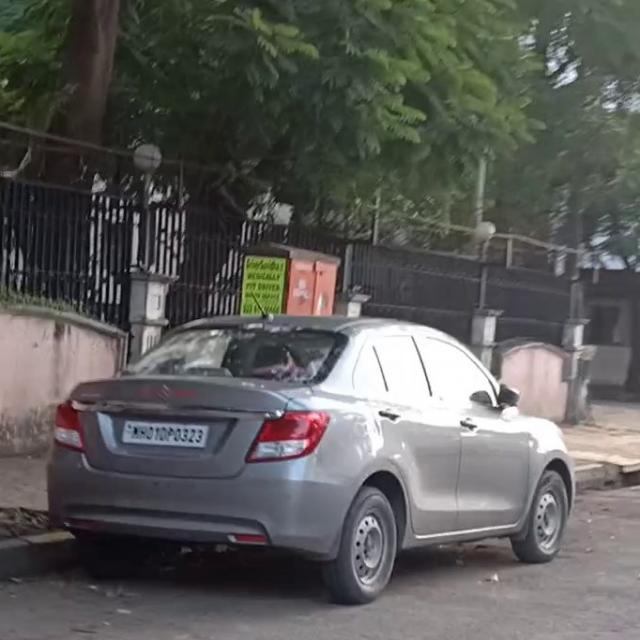Plate: (122, 418, 208, 449)
